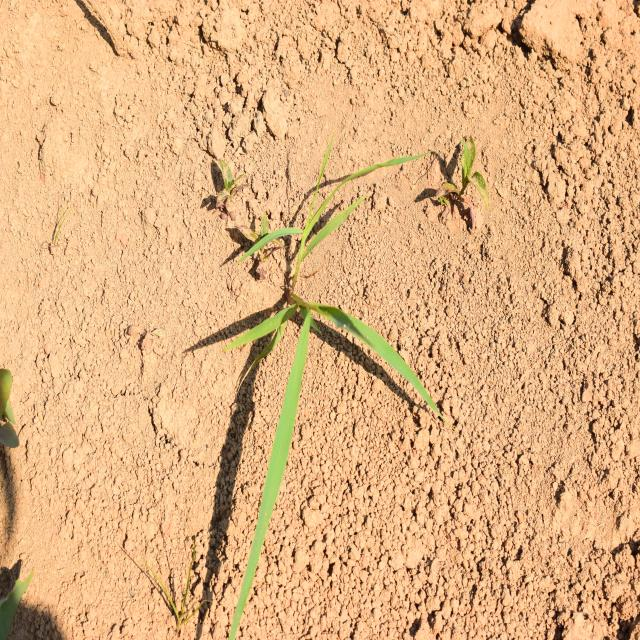green_foxtail: (237, 128, 418, 525)
